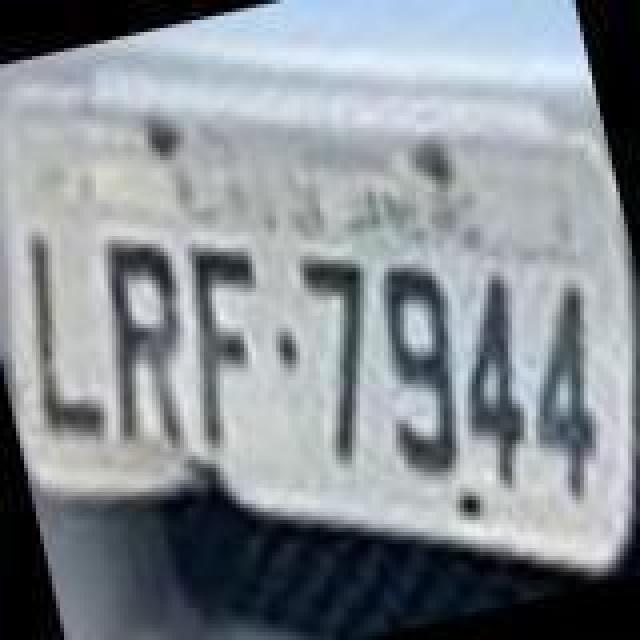4: (504, 280, 632, 512), (438, 270, 554, 498)
7: (290, 248, 406, 472)
9: (358, 252, 490, 484)
F: (158, 238, 290, 450)
L: (0, 222, 112, 450)
R: (74, 228, 214, 460)
